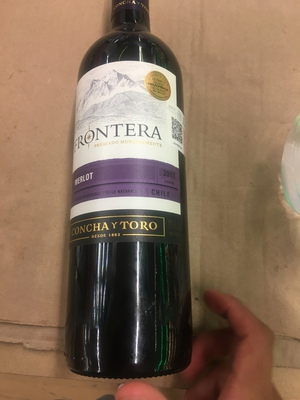frontera merlot: (61, 10, 225, 400)
